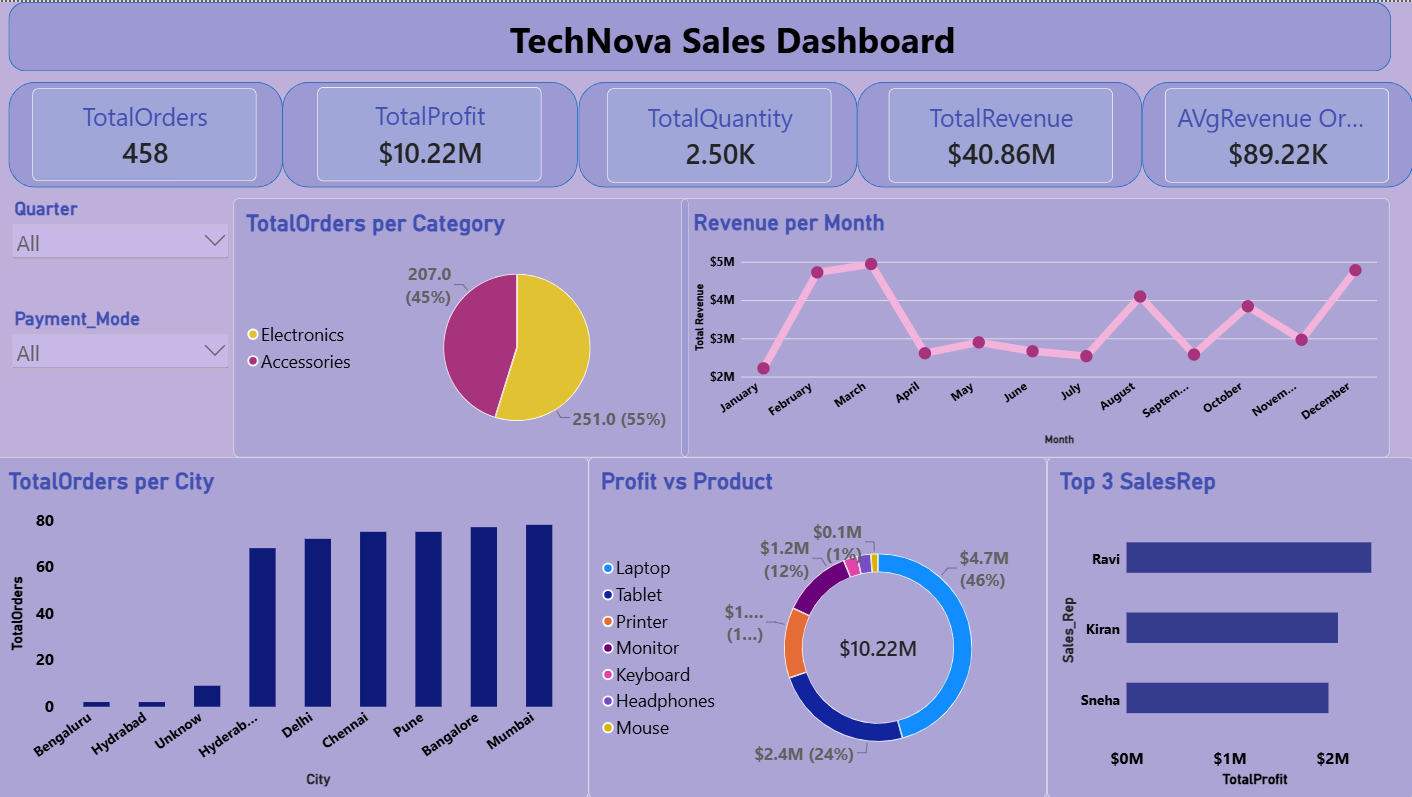

What the dashboard file says about the page in this screenshot:
{"tool":"powerbi","page":{"name":"Page 1","canvas":[1920,1080],"ordinal":0},"visuals":[{"type":"shape","box":[16.3,0,1873.4,94],"z":1},{"type":"textbox","box":[696.7,16.3,676.2,77.6],"z":2},{"type":"shape","box":[16.3,108.3,371.8,143],"z":4},{"type":"shape","box":[388.2,108.3,400.4,143],"z":5},{"type":"shape","box":[1166.5,108.3,386.1,143],"z":7},{"type":"shape","box":[788.6,108.3,378,143],"z":8},{"type":"shape","box":[1552.7,108.3,367.7,143],"z":9},{"type":"cardVisual","fields":{"Data":["technova sales.AVgRevenue Order"]},"box":[1583.3,116.5,304.4,128.7],"z":12},{"type":"cardVisual","fields":{"Data":["technova sales.TotalRevenue"]},"box":[1209.5,116.5,304.4,128.7],"z":13},{"type":"cardVisual","fields":{"Data":["technova sales.TotalQuantity"]},"box":[827.4,116.5,304.4,128.7],"z":14},{"type":"cardVisual","fields":{"Data":["technova sales.TotalProfit"]},"box":[435.2,114.4,304.4,128.7],"z":15},{"type":"pieChart","title":"TotalOrders  per Category","fields":{"Category":["technova sales.Category"],"Y":["technova sales.TotalOrders"]},"box":[321,266,617,351.4],"z":16},{"type":"lineChart","title":"Revenue per Month","fields":{"Category":["DateTable.Month_name"],"Y":["technova sales.TotalRevenue"]},"box":[928.1,266,960.2,351.4],"z":17},{"type":"columnChart","title":"TotalOrders per City","fields":{"Category":["technova sales.City"],"Y":["technova sales.TotalOrders"]},"box":[0,617,802.9,463.8],"z":18},{"type":"donutChart","title":"Profit vs Product","fields":{"Category":["technova sales.Product"],"Y":["technova sales.TotalProfit"]},"box":[802.9,617,621.1,463.8],"z":20},{"type":"barChart","title":"Top 3 SalesRep","fields":{"Category":["technova sales.Sales_Rep"],"Y":["technova sales.TotalProfit"]},"box":[1424,617,496.4,463.8],"z":21},{"type":"cardVisual","fields":{"Data":["technova sales.TotalOrders"]},"box":[49,116.5,304.4,126.7],"z":22},{"type":"slicer","fields":{"Values":["DateTable.Quarter"]},"box":[16.5,266,304.5,148.6],"z":23},{"type":"slicer","fields":{"Values":["technova sales.Payment_Mode"]},"box":[16.5,414.5,304.5,201.8],"z":24}]}

Visuals, with their boxes in screenshot pixels (x1, y1, x2, y2), scaled from the page's 1920x1080 canvas onto the 1412x797 screenshot:
shape: box=[12, 0, 1390, 69]
textbox: box=[512, 12, 1010, 69]
shape: box=[12, 80, 285, 185]
shape: box=[285, 80, 580, 185]
shape: box=[858, 80, 1142, 185]
shape: box=[580, 80, 858, 185]
shape: box=[1142, 80, 1411, 185]
cardVisual - technova sales.AVgRevenue Order: box=[1164, 86, 1388, 181]
cardVisual - technova sales.TotalRevenue: box=[889, 86, 1113, 181]
cardVisual - technova sales.TotalQuantity: box=[608, 86, 832, 181]
cardVisual - technova sales.TotalProfit: box=[320, 84, 544, 179]
"TotalOrders  per Category" pieChart: box=[236, 196, 690, 456]
"Revenue per Month" lineChart: box=[683, 196, 1389, 456]
"TotalOrders per City" columnChart: box=[0, 455, 590, 796]
"Profit vs Product" donutChart: box=[590, 455, 1047, 796]
"Top 3 SalesRep" barChart: box=[1047, 455, 1411, 796]
cardVisual - technova sales.TotalOrders: box=[36, 86, 260, 179]
slicer - DateTable.Quarter: box=[12, 196, 236, 306]
slicer - technova sales.Payment_Mode: box=[12, 306, 236, 455]
